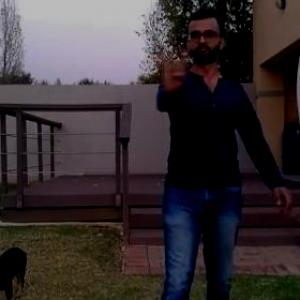takeoff-hand: (158, 38, 190, 98)
